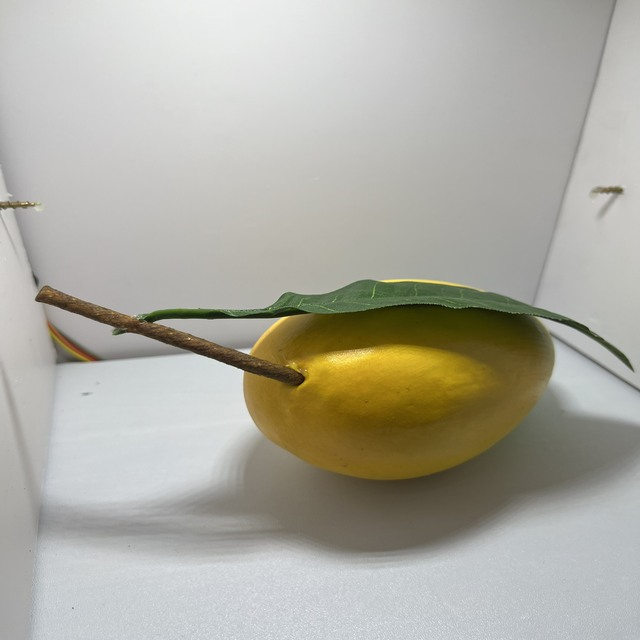Xoai: (224, 278, 575, 484)
